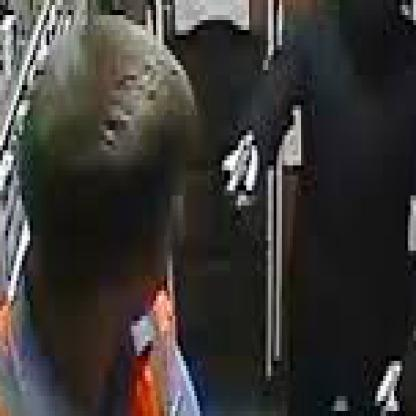gun: (216, 115, 263, 236)
